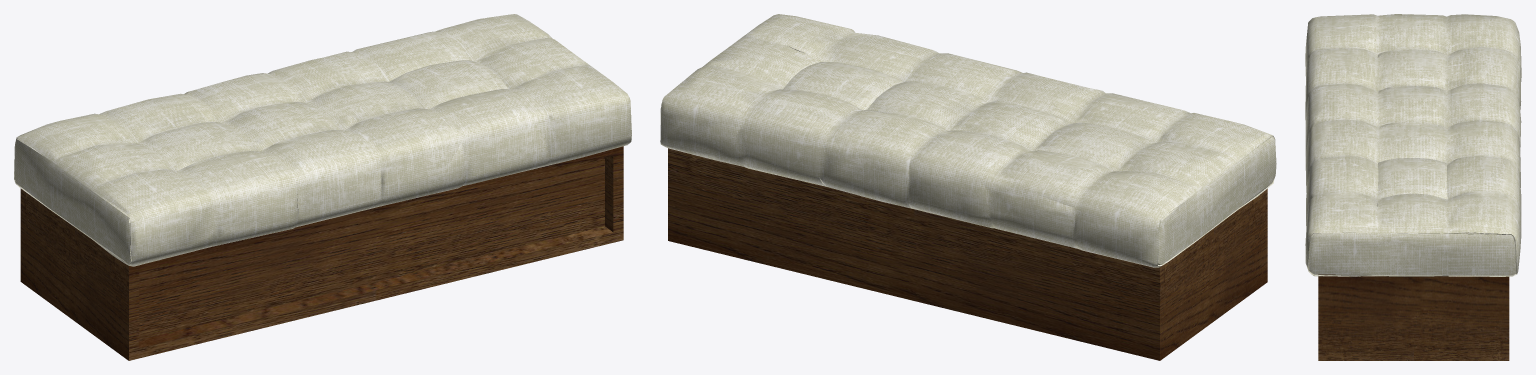
Rendered from Bench.FBX.
3 views of the same model, side by side, from view 1: azimuth 30°, elevation 25°; view 2: azimuth 150°, elevation 25°; view 3: azimuth 270°, elevation 25° (orthographic). The views are drawn at different scales.
Visible parts, largest first — view 1: bench; view 2: bench; view 3: bench.
Boxes of the visible parts, x1=… form: bench: x1=14, y1=14, x2=631, y2=360; bench: x1=660, y1=14, x2=1276, y2=360; bench: x1=1305, y1=14, x2=1521, y2=360.
Bounding box in the file's own units: 203 × 59.81 × 84.74.
2 materials, 2 textured.
